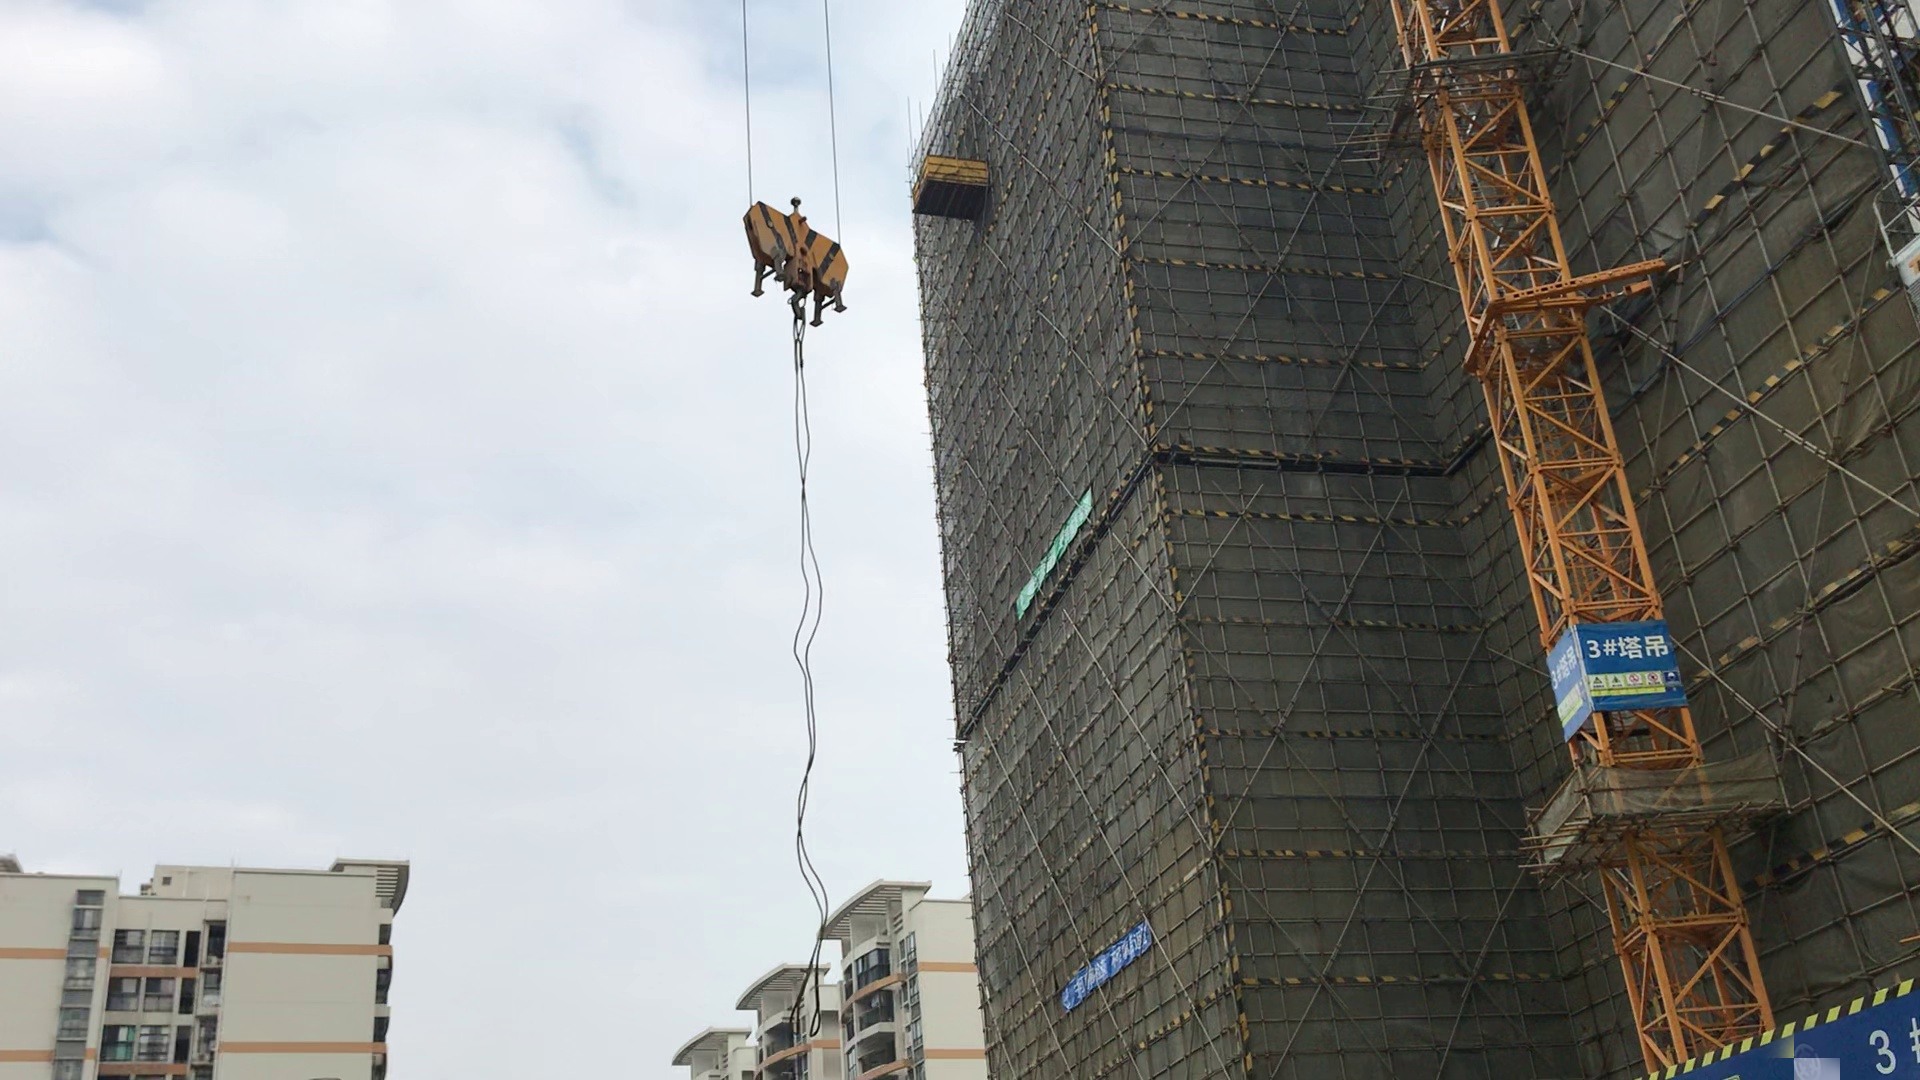hook: (744, 200, 868, 330)
slogan: (992, 483, 1124, 630), (1042, 920, 1163, 1011)
